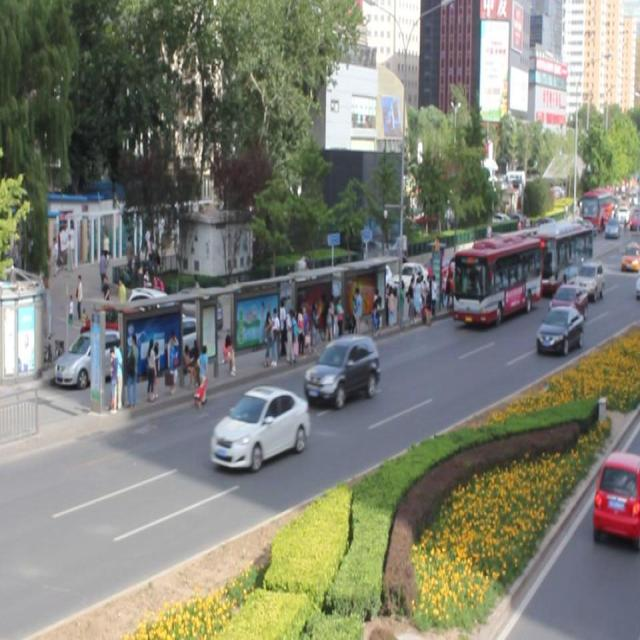car: (209, 383, 310, 468), (304, 332, 378, 403), (535, 303, 581, 352), (547, 280, 587, 322), (573, 256, 603, 300)
van: (447, 232, 538, 326), (524, 218, 592, 296)
